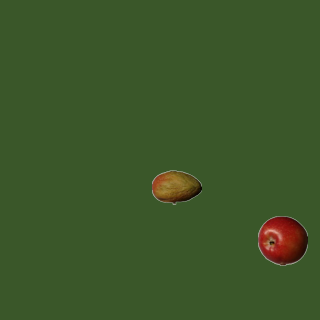Apple Braeburn: (257, 215, 307, 265)
Papaya: (151, 162, 201, 212)
